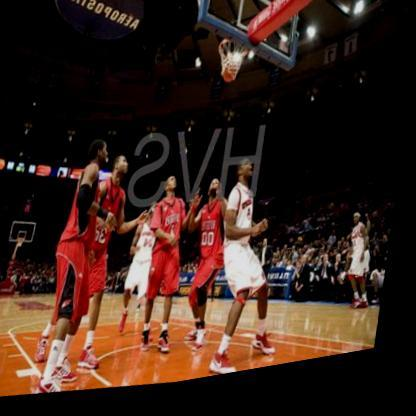basketball: (220, 60, 244, 94)
rim: (217, 39, 253, 69)
